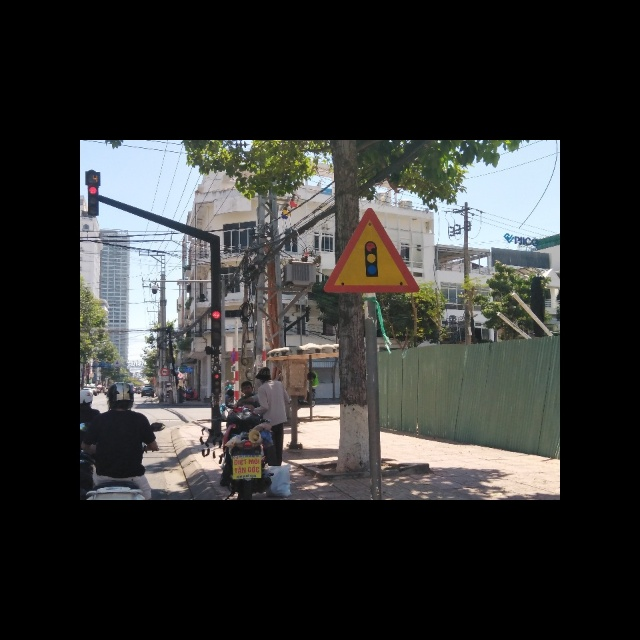Giao nhau có tín hiệu đèn: (320, 207, 423, 294)
Đèn đỏ: (211, 309, 221, 318)
